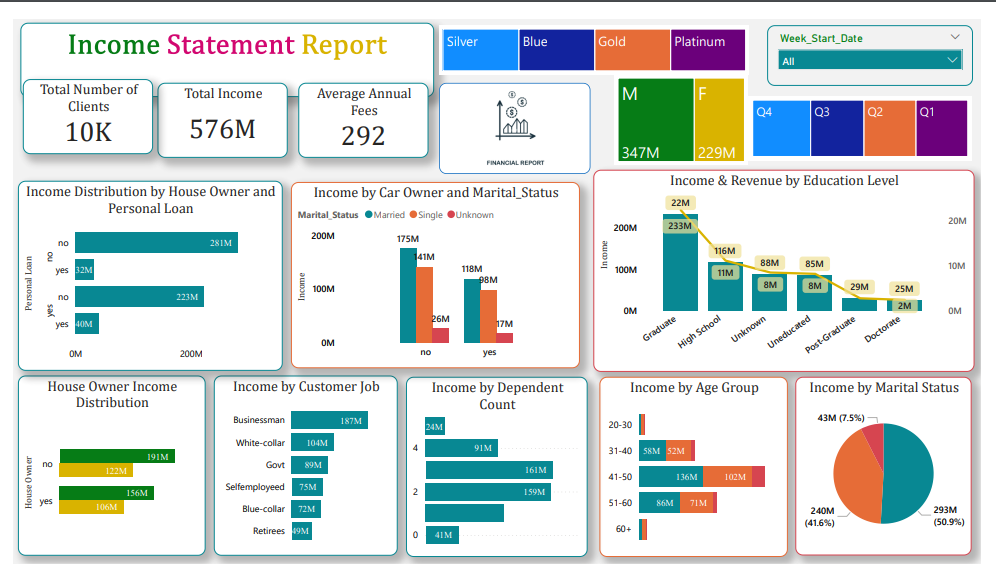

The dashboard page shown, as its layout file describes it:
{"tool":"powerbi","page":{"name":"Income Report","canvas":[1280,720],"ordinal":3},"visuals":[{"type":"clusteredBarChart","title":"House Owner Income Distribution","fields":{"Category":["customer.House_Owner"],"Y":["Sum(customer.Income)"],"Series":["customer.Gender"]},"box":[6.5,471.2,247.7,238],"z":0},{"type":"textbox","box":[9.8,4.9,546.7,97.6],"z":1000},{"type":"barChart","title":" Income by Customer Job","fields":{"Category":["customer.Customer_Job"],"Y":["Sum(customer.Income)"]},"box":[265.6,471.2,242.9,238],"z":2000},{"type":"lineClusteredColumnComboChart","title":"Income &  Revenue by Education Level","fields":{"Category":["customer.Education_Level"],"Y":["Sum(customer.Income)"],"Y2":["Sum(credit_card.Revenue)"]},"box":[767.5,199.2,503.6,267.2],"z":3000},{"type":"barChart","title":"Income by Age Group","fields":{"Category":["customer.Age Group"],"Y":["Sum(customer.Income)"],"Series":["customer.Marital_Status"]},"box":[775.6,472.8,249.4,238],"z":4000},{"type":"barChart","title":"Income by Dependent Count","fields":{"Y":["Sum(customer.Income)"],"Category":["customer.Dependent_Count"]},"box":[519.8,472.8,240,238],"z":5000},{"type":"clusteredBarChart","title":"Income Distribution by House Owner and Personal Loan","fields":{"Category":["customer.House_Owner","customer.Personal_loan"],"Y":["Sum(customer.Income)"]},"box":[6.5,213.7,349.8,251],"z":6000},{"type":"clusteredColumnChart","title":" Income by Car Owner and Marital_Status","fields":{"Category":["customer.Car_Owner"],"Y":["Sum(customer.Income)"],"Series":["customer.Marital_Status"]},"box":[367.6,215.4,382.1,246.1],"z":7000},{"type":"treemap","fields":{"Values":["Sum(customer.Income)"],"Group":["customer.Gender"]},"box":[795.7,73.2,177.4,120.4],"z":8000},{"type":"pieChart","title":" Income by Marital Status","fields":{"Category":["customer.Marital_Status"],"Y":["Sum(customer.Income)"]},"box":[1034.7,472.8,233.2,236.4],"z":9000},{"type":"card","title":"Total Income","fields":{"Values":["Sum(customer.Income)"]},"box":[190.4,84.6,172.5,99.3],"z":10000},{"type":"treemap","fields":{"Group":["credit_card.Qtr"],"Values":["Avg(credit_card.Client_Num)"]},"box":[973,102.5,294.5,84.6],"z":11000},{"type":"treemap","fields":{"Group":["credit_card.Card_Category"],"Values":["Avg(credit_card.Client_Num)"]},"box":[563.1,8,410.4,65.2],"z":12000},{"type":"slicer","fields":{"Values":["credit_card.Week_Start_Date"]},"box":[997.4,8.1,271.7,79.7],"z":13000},{"type":"card","title":"Total Number of Clients","fields":{"Values":["CountNonNull(customer.Client_Num)"]},"box":[13,79.7,172.5,99.3],"z":14000},{"type":"card","title":"Average Annual Fees","fields":{"Values":["Avg(credit_card.Annual_Fees)"]},"box":[377.5,84.6,172.5,99.3],"z":15000},{"type":"shape","box":[563,84.6,200.1,120.4],"z":15062},{"type":"image","box":[572.8,84.6,182.2,120.4],"z":15125}]}

Visuals, with their boxes in screenshot pixels (x1, y1, x2, y2), scaled from the page's 1280x720 canvas onto the 996x576 screenshot:
"House Owner Income Distribution" clusteredBarChart: [5, 377, 198, 567]
textbox: [8, 4, 433, 82]
" Income by Customer Job" barChart: [207, 377, 396, 567]
"Income &  Revenue by Education Level" lineClusteredColumnComboChart: [597, 159, 989, 373]
"Income by Age Group" barChart: [604, 378, 798, 569]
"Income by Dependent Count" barChart: [404, 378, 591, 569]
"Income Distribution by House Owner and Personal Loan" clusteredBarChart: [5, 171, 277, 372]
" Income by Car Owner and Marital_Status" clusteredColumnChart: [286, 172, 583, 369]
treemap - Sum(customer.Income) x customer.Gender: [619, 59, 757, 155]
" Income by Marital Status" pieChart: [805, 378, 987, 567]
"Total Income" card: [148, 68, 282, 147]
treemap - credit_card.Qtr x Avg(credit_card.Client_Num): [757, 82, 986, 150]
treemap - credit_card.Card_Category x Avg(credit_card.Client_Num): [438, 6, 758, 59]
slicer - credit_card.Week_Start_Date: [776, 6, 988, 70]
"Total Number of Clients" card: [10, 64, 144, 143]
"Average Annual Fees" card: [294, 68, 428, 147]
shape: [438, 68, 594, 164]
image: [446, 68, 587, 164]
